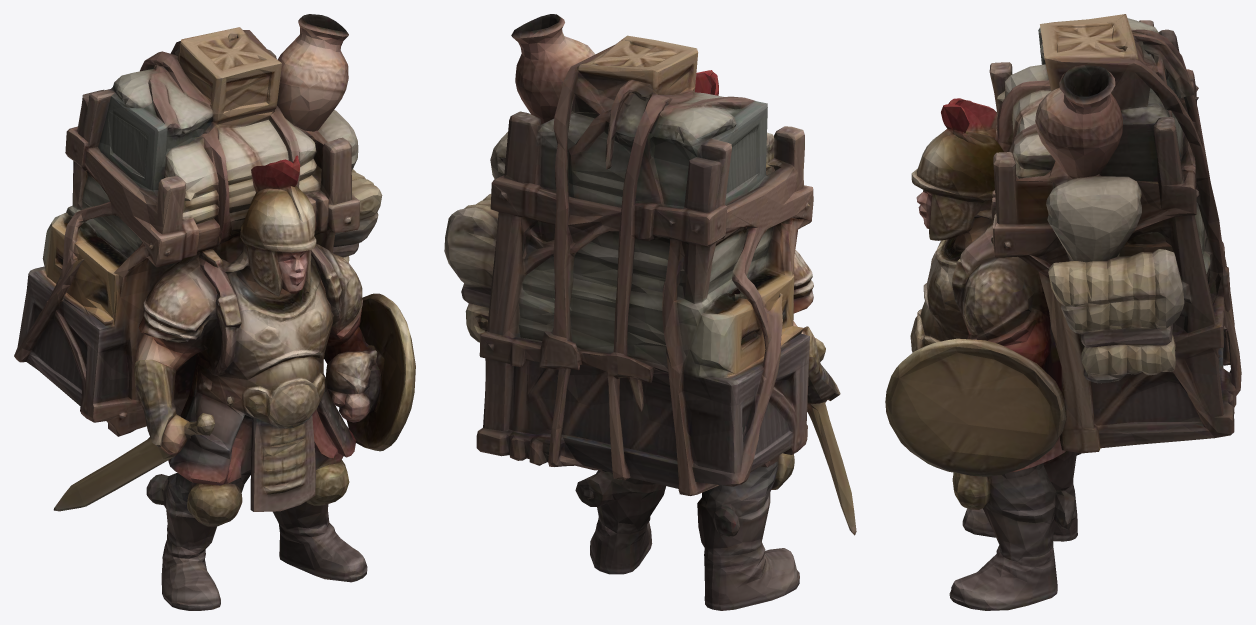
The model's file is supplyConvoyGuard.glb.
The picture shows the model from 3 angles, left to right: view 1: azimuth 30°, elevation 25°; view 2: azimuth 150°, elevation 25°; view 3: azimuth 270°, elevation 25°; orthographic projection. The views are drawn at different scales.
Visible parts, largest first — view 1: world; view 2: world; view 3: world.
Part boxes in pixels (x1,y1,x2,y2): world: (14,14,415,610); world: (444,14,856,610); world: (885,14,1241,610).
Size of the model in its own units: 0.6787 by 1 by 0.5955.
1 material, 1 textured.
